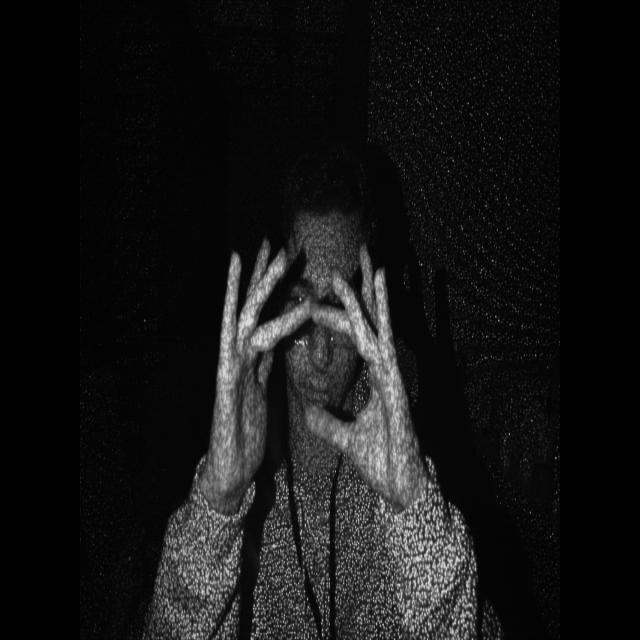REACH: (213, 234, 420, 504)
